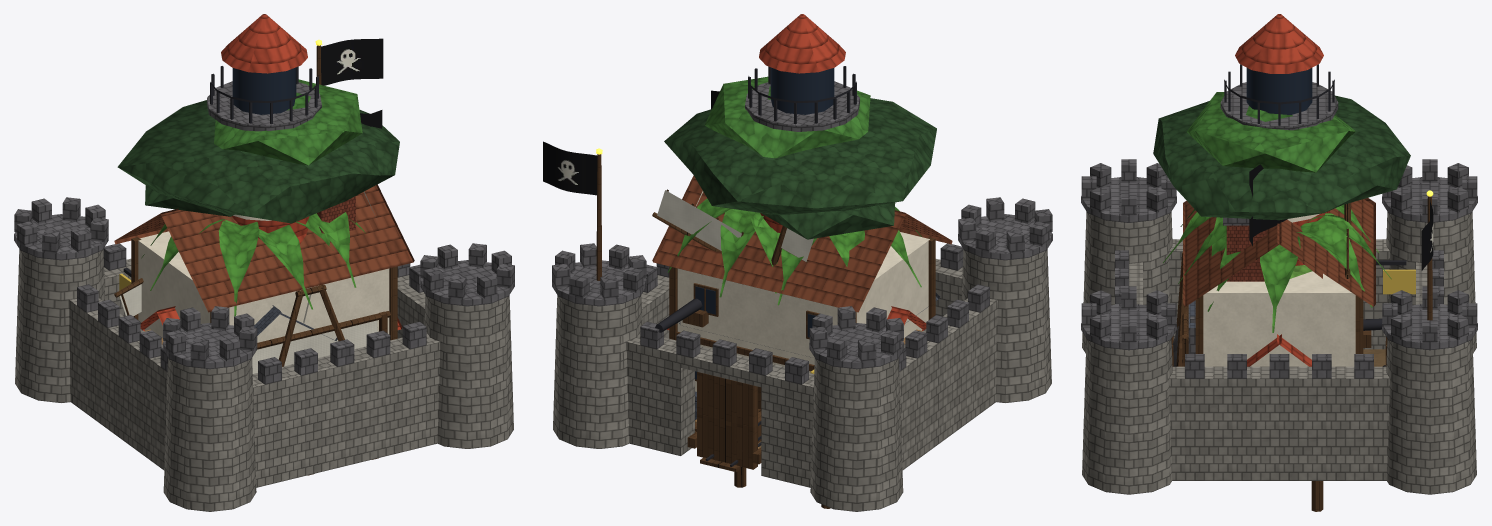
The model's file is props.glb.
3 views of the same model, side by side, from view 1: azimuth 30°, elevation 25°; view 2: azimuth 150°, elevation 25°; view 3: azimuth 270°, elevation 25° (orthographic).
Parts seen in each view (by area): view 1: Fort, Ironwood_0, Tavern, Lighthouse, Palm_1, LoftCanvas, SailLoft, Shipyard, Palm_0, MillBlades, Foundry; view 2: Fort, Ironwood_0, Tavern, Lighthouse, MillBlades, Palm_0, Palm_1; view 3: Fort, Ironwood_0, Tavern, Lighthouse, Palm_0, Foundry, SailLoft, Palm_1, Shipyard, FlagPirate.
Part boxes in pixels (left/top/right/bottom): Fort: left=14, top=38, right=514, bottom=511; Ironwood_0: left=117, top=79, right=399, bottom=223; Tavern: left=114, top=184, right=414, bottom=342; Lighthouse: left=207, top=14, right=321, bottom=239; Palm_1: left=141, top=216, right=333, bottom=316; LoftCanvas: left=252, top=320, right=377, bottom=373; SailLoft: left=140, top=306, right=402, bottom=349; Shipyard: left=278, top=284, right=378, bottom=475; Palm_0: left=310, top=212, right=365, bottom=287; MillBlades: left=114, top=278, right=143, bottom=316; Foundry: left=317, top=196, right=355, bottom=233; Fort: left=543, top=141, right=1052, bottom=511; Ironwood_0: left=664, top=76, right=936, bottom=239; Tavern: left=652, top=175, right=952, bottom=431; Lighthouse: left=745, top=14, right=859, bottom=232; MillBlades: left=652, top=189, right=815, bottom=265; Palm_0: left=667, top=198, right=780, bottom=297; Palm_1: left=777, top=207, right=921, bottom=305; Fort: left=1081, top=159, right=1477, bottom=494; Ironwood_0: left=1153, top=92, right=1410, bottom=220; Tavern: left=1183, top=198, right=1415, bottom=366; Lighthouse: left=1220, top=14, right=1338, bottom=265; Palm_0: left=1178, top=213, right=1391, bottom=332; Foundry: left=1223, top=217, right=1385, bottom=366; SailLoft: left=1182, top=305, right=1311, bottom=366; Palm_1: left=1163, top=204, right=1379, bottom=263; Shipyard: left=1171, top=252, right=1387, bottom=366; FlagPirate: left=1249, top=164, right=1287, bottom=246.
Bounding box in the file's own units: 8.92 × 11.1 × 8.44.
57 materials, 36 textured.
